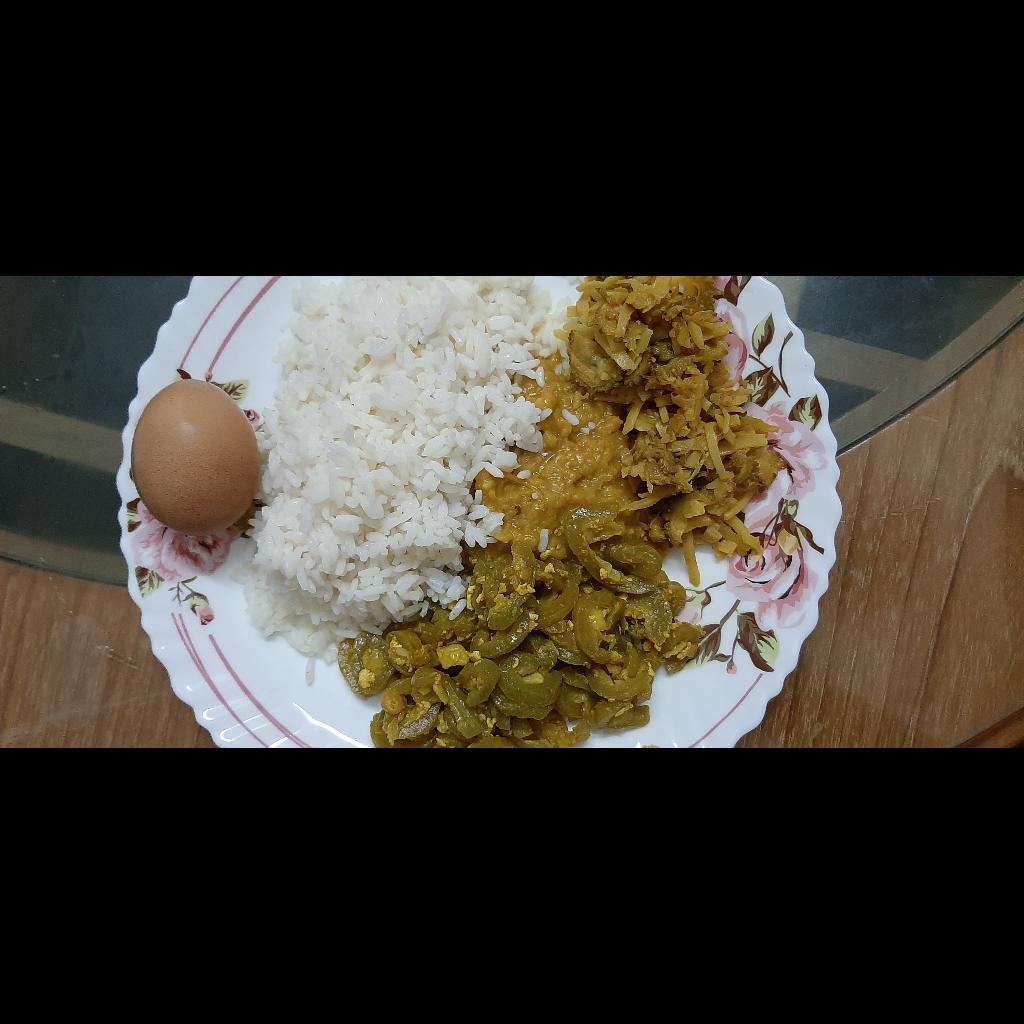chichinga-vaji: (0, 613, 242, 983)
daal: (205, 753, 391, 937)
egg-boiled: (215, 403, 372, 533)
korola-vaji: (247, 1008, 285, 1024)
potato: (159, 841, 472, 1024)
rice: (66, 508, 472, 846)
